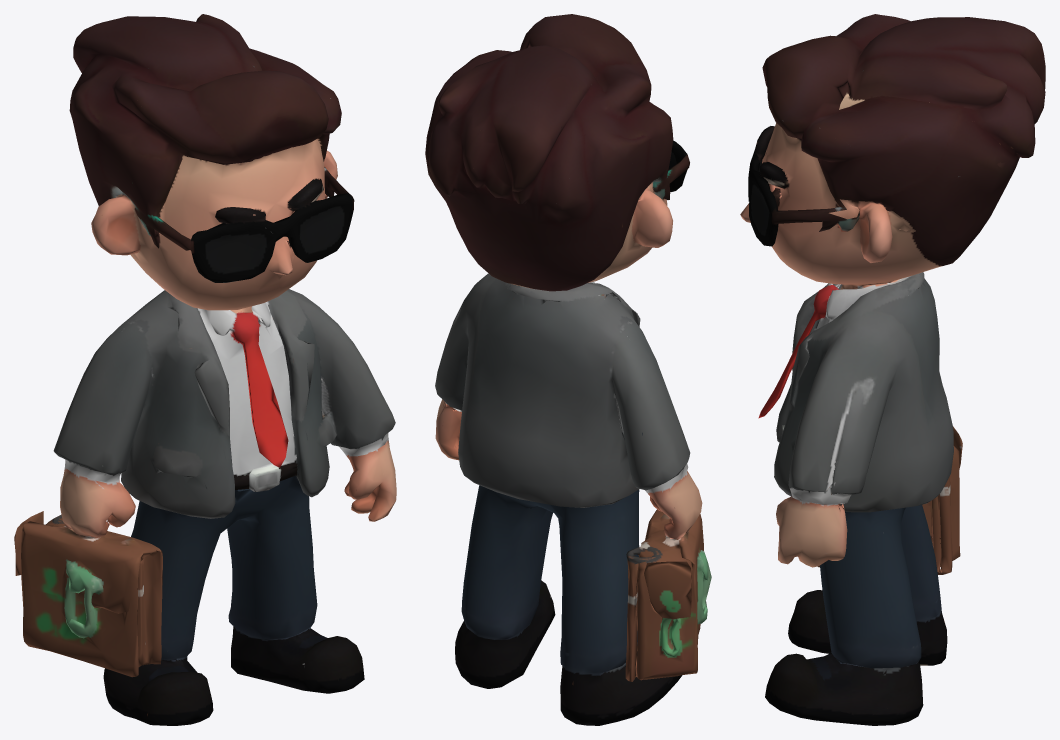
Rendered from ceo-web.glb.
3 views of the same model, side by side, from view 1: azimuth 30°, elevation 25°; view 2: azimuth 150°, elevation 25°; view 3: azimuth 270°, elevation 25° (orthographic).
Size of the model in its own units: 0.4927 by 0.9817 by 0.4152.
Materials: 1 (1 with a texture image).
